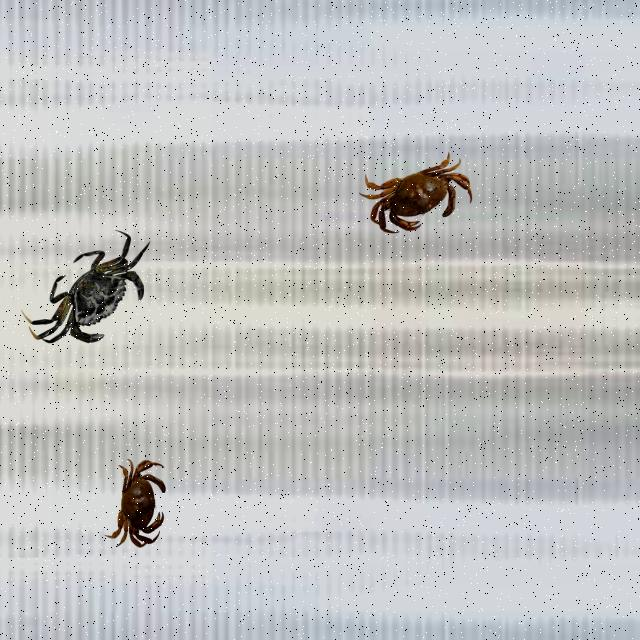European_Green_Crab: (13, 216, 175, 374)
